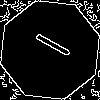I: (25, 25, 73, 60)
